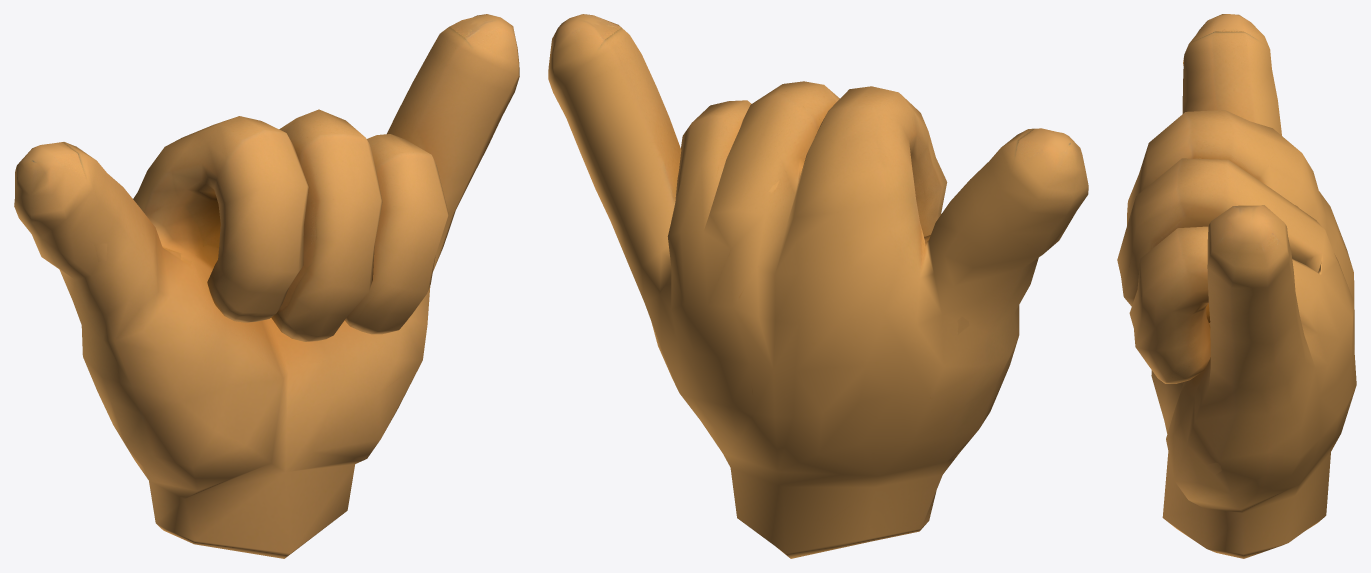
The model's file is shaka_gold.glb.
3 renders of one model, left to right at view 1: azimuth 30°, elevation 25°; view 2: azimuth 150°, elevation 25°; view 3: azimuth 270°, elevation 25°, orthographic. The views are drawn at different scales.
Size of the model in its own units: 1 by 0.873 by 0.4375.
1 material, 1 textured.
